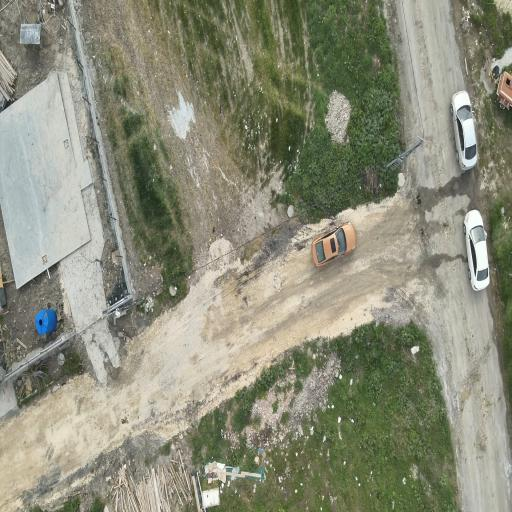car: (463, 210, 490, 290), (450, 92, 477, 170), (312, 223, 355, 266)
